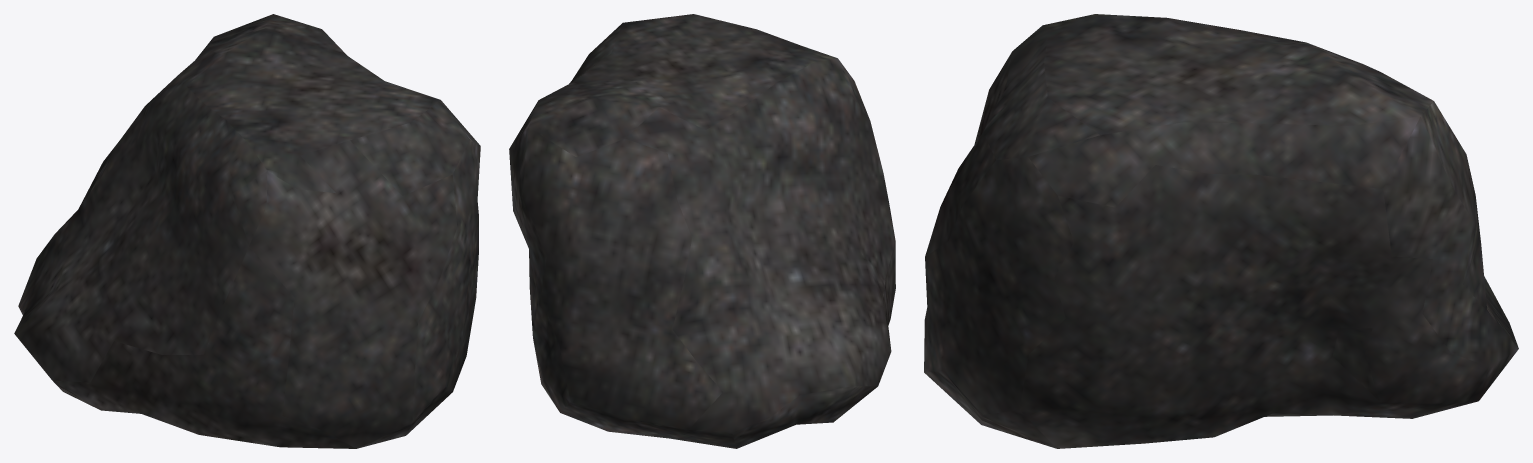
The model's file is rock 8.glb.
3 views of the same model, side by side, from view 1: azimuth 30°, elevation 25°; view 2: azimuth 150°, elevation 25°; view 3: azimuth 270°, elevation 25° (orthographic). The views are drawn at different scales.
Visible parts, largest first — view 1: AR08; view 2: AR08; view 3: AR08.
Part boxes in pixels (left/top/right/bottom): AR08: left=14, top=14, right=480, bottom=448; AR08: left=509, top=14, right=895, bottom=448; AR08: left=924, top=14, right=1518, bottom=448.
Bounding box in the file's own units: 9.9 × 7.73 × 11.65.
1 material, 1 textured.
